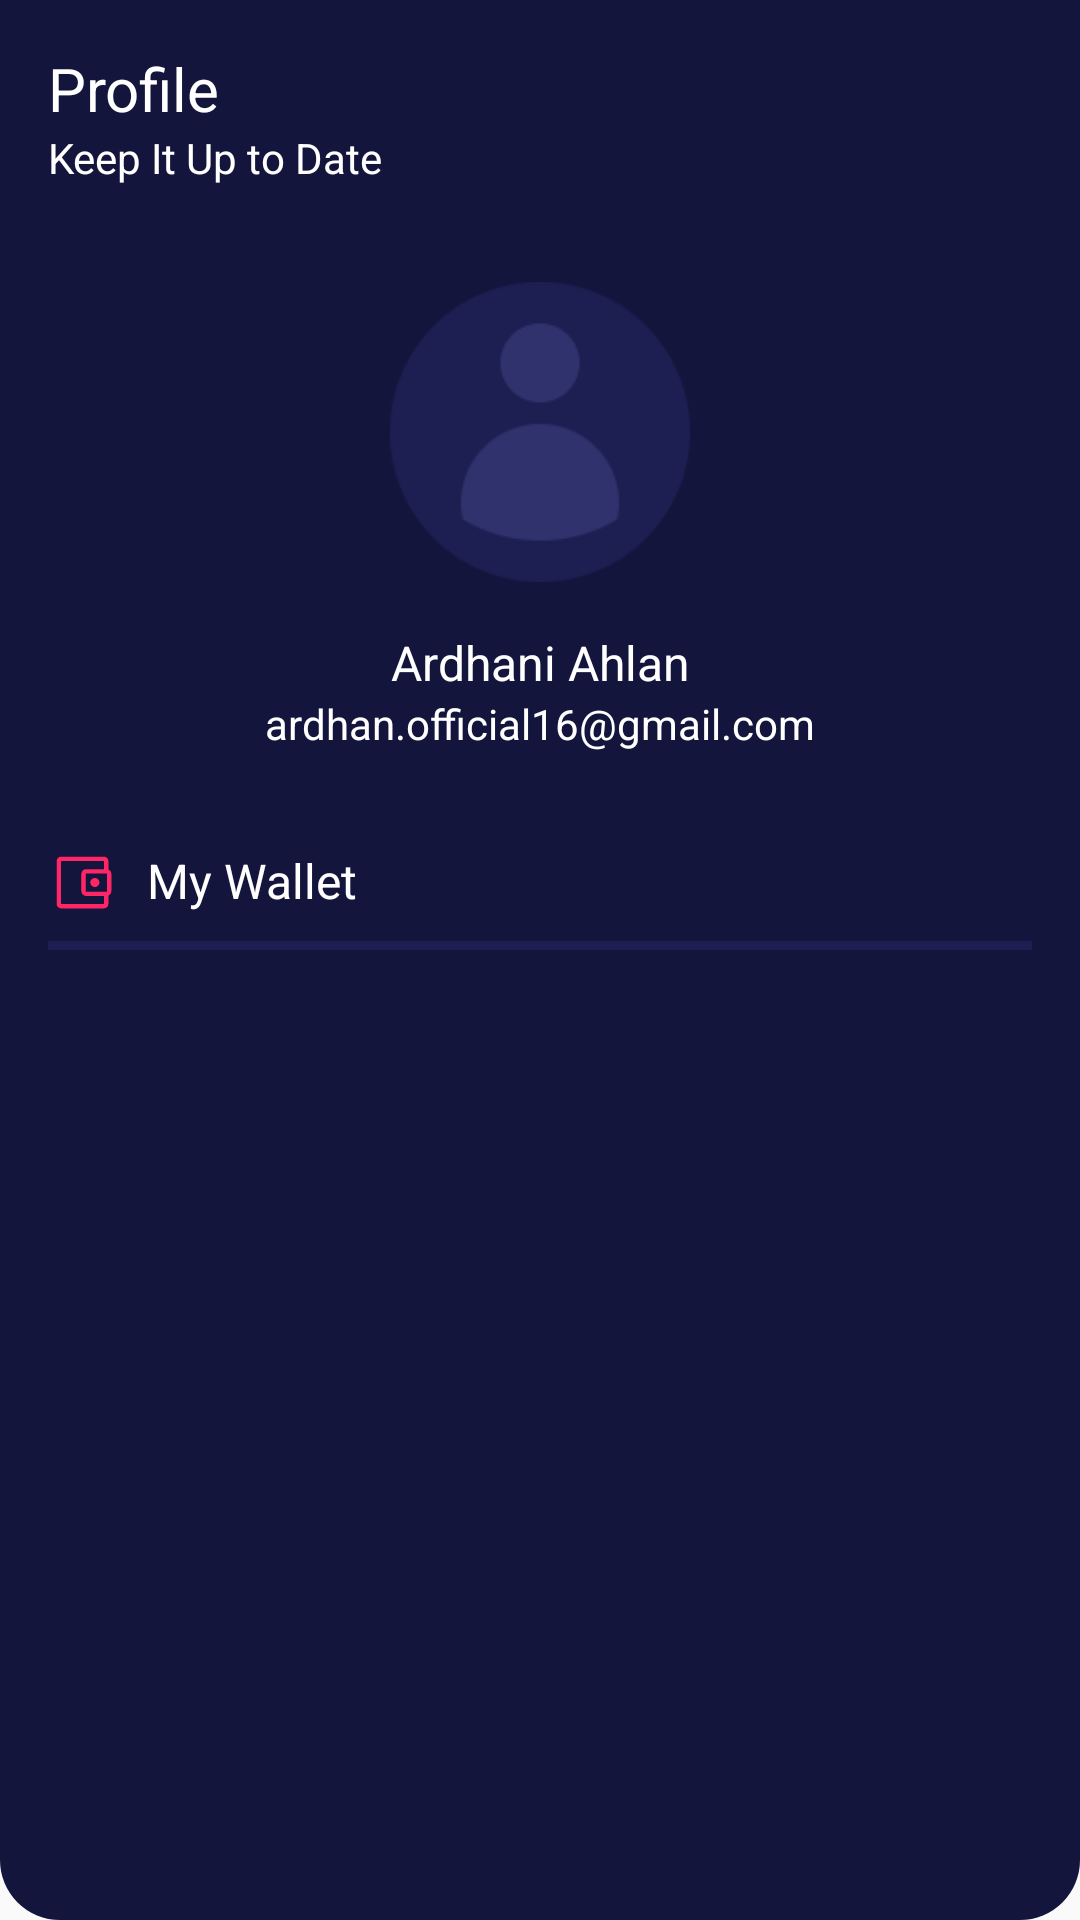

Icons on this 1080x1920 Android screen, each with its box as (x1, y1, x2, y2):
user pic: (460, 323, 620, 541)
